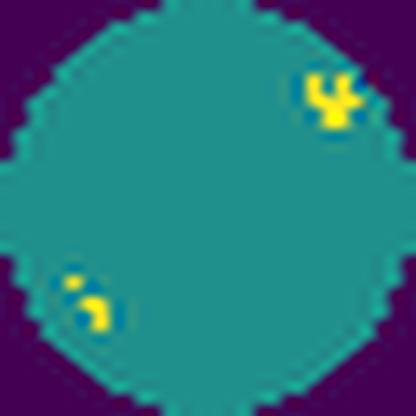Loc: (304, 69, 362, 133), (78, 290, 113, 334)
